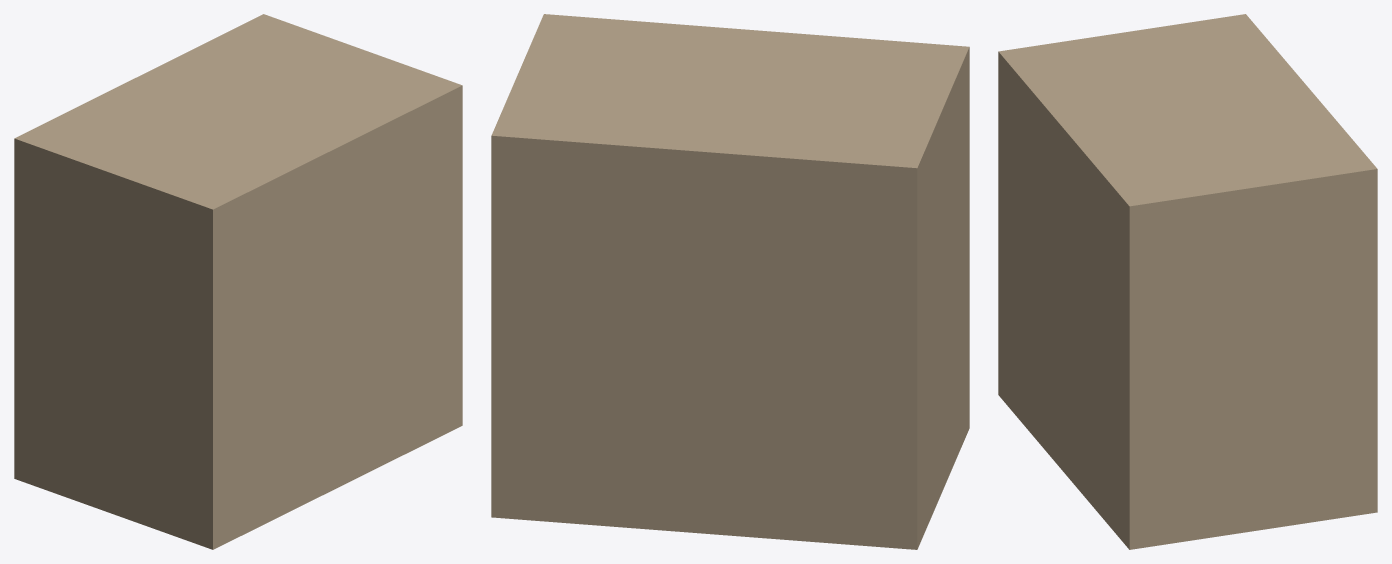
File: bld_393483740.dae
3 renders of one model, left to right at view 1: azimuth 30°, elevation 25°; view 2: azimuth 150°, elevation 25°; view 3: azimuth 270°, elevation 25°, orthographic. The views are drawn at different scales.
Visible parts, largest first — view 1: bld_393483740; view 2: bld_393483740; view 3: bld_393483740.
Boxes of the visible parts, box(x1,y1,x2,y2) form: bld_393483740: box(14, 14, 462, 549); bld_393483740: box(491, 14, 969, 549); bld_393483740: box(998, 14, 1377, 549).
Bounding box in the file's own units: 9.61 × 8 × 8.
